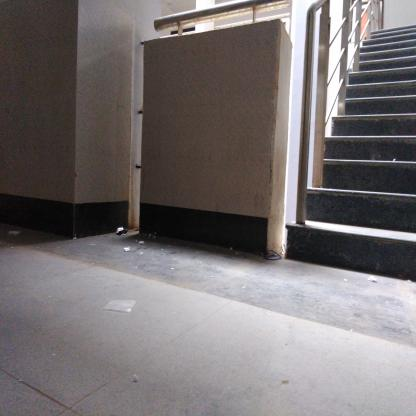stairs: (364, 42, 416, 290)
